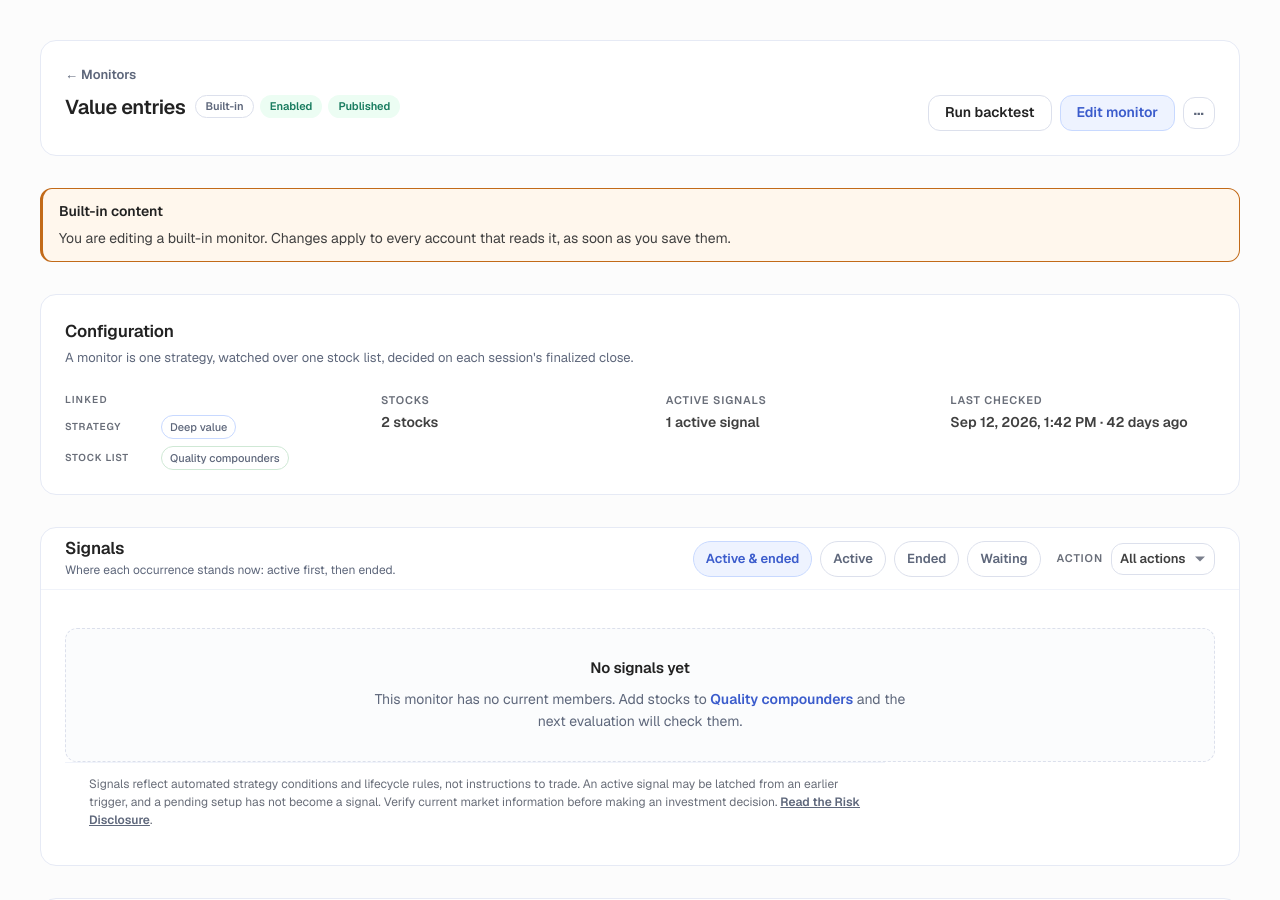
Test: MonitorDetail › built-in monitors › lets an administrator pause and unpublish it, never delete it
This screenshot has width=1280, height=900.
Expected: the text with test id "monitor-published-pill" reads "Published", [338, 98, 390, 112]
Click the button "…": {"x": 1199, "y": 112} [1183, 96, 1215, 128]
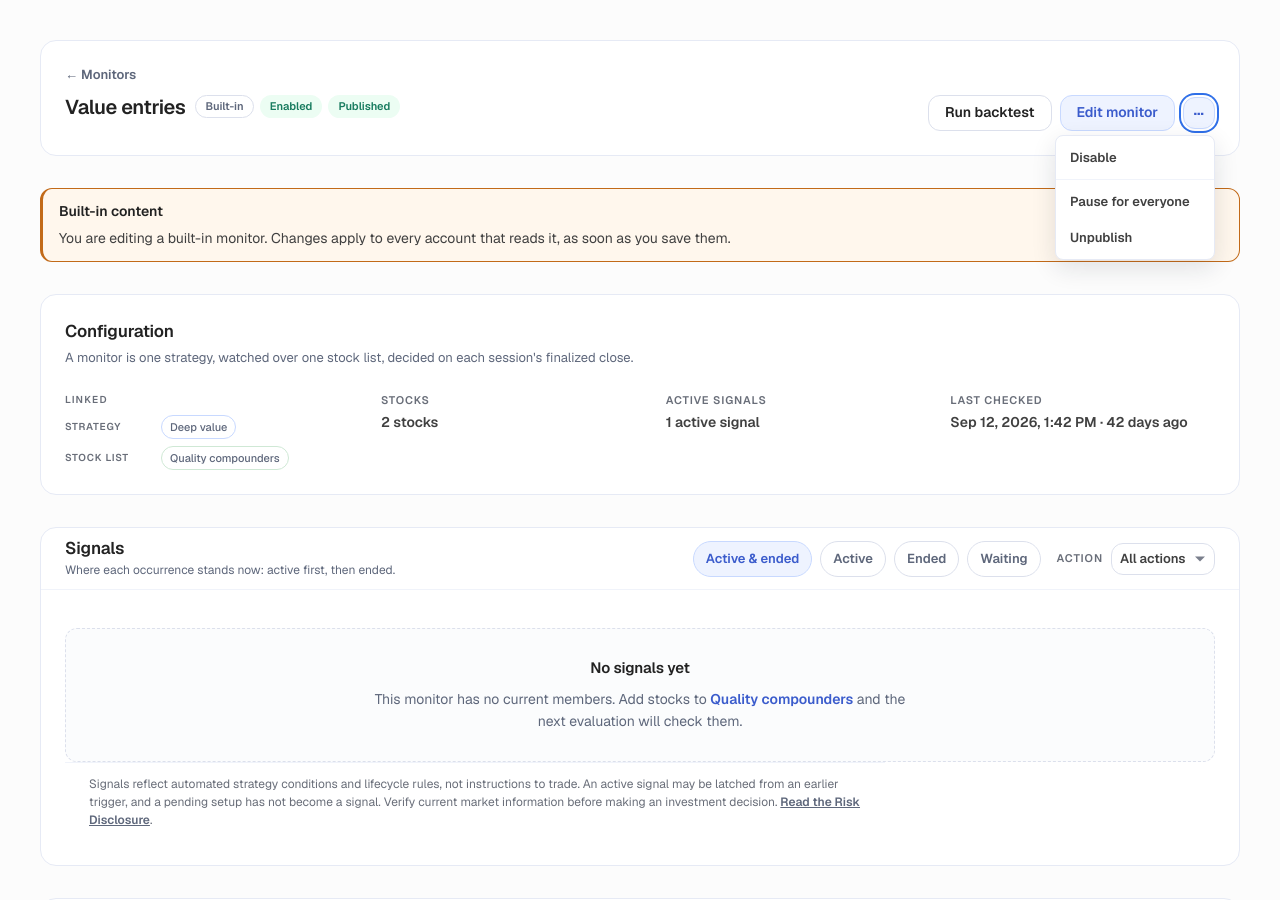
Click the button with test id "publish-monitor": {"x": 1135, "y": 237} [1056, 220, 1214, 255]
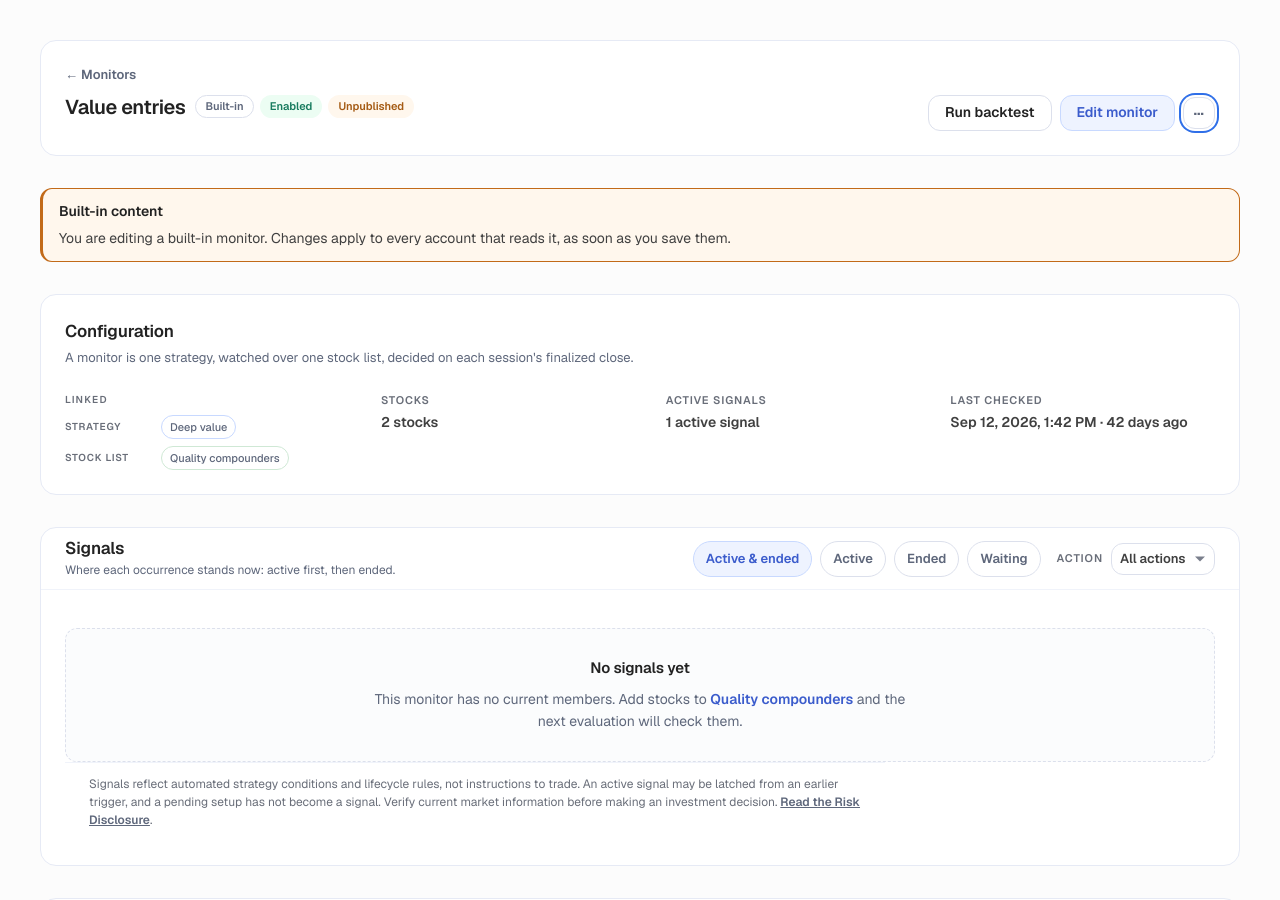
Now the text with test id "monitor-published-pill" reads "Unpublished", box [338, 98, 404, 112]
